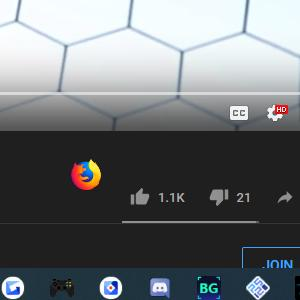firefox: (70, 158, 103, 192)
